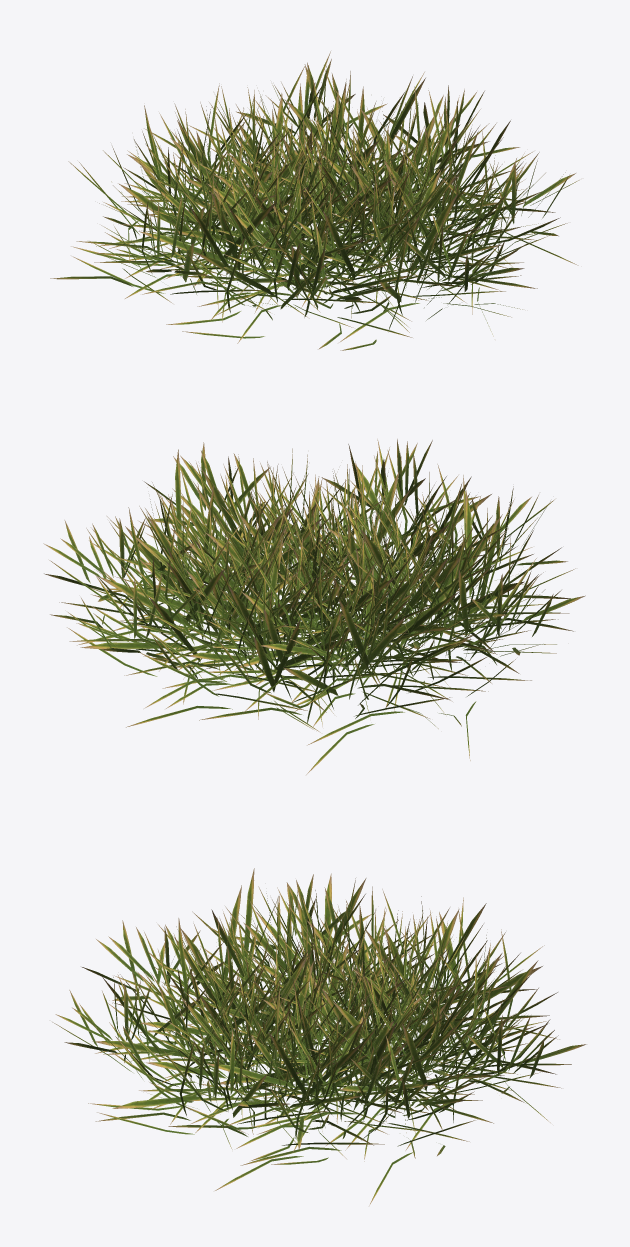
File: realgrass.glb
The picture shows the model from 3 angles, top to bottom: view 1: azimuth 30°, elevation 25°; view 2: azimuth 150°, elevation 25°; view 3: azimuth 270°, elevation 25°; orthographic projection. The views are drawn at different scales.
Visible parts, largest first — view 1: Object_2; view 2: Object_2; view 3: Object_2.
Part boxes in pixels (x1=…): Object_2: x1=50, y1=51, x2=579, y2=350; Object_2: x1=43, y1=439, x2=585, y2=774; Object_2: x1=52, y1=868, x2=586, y2=1205.
Bounding box in the file's own units: 2.53 × 0.9 × 2.53.
1 material, 1 textured.
